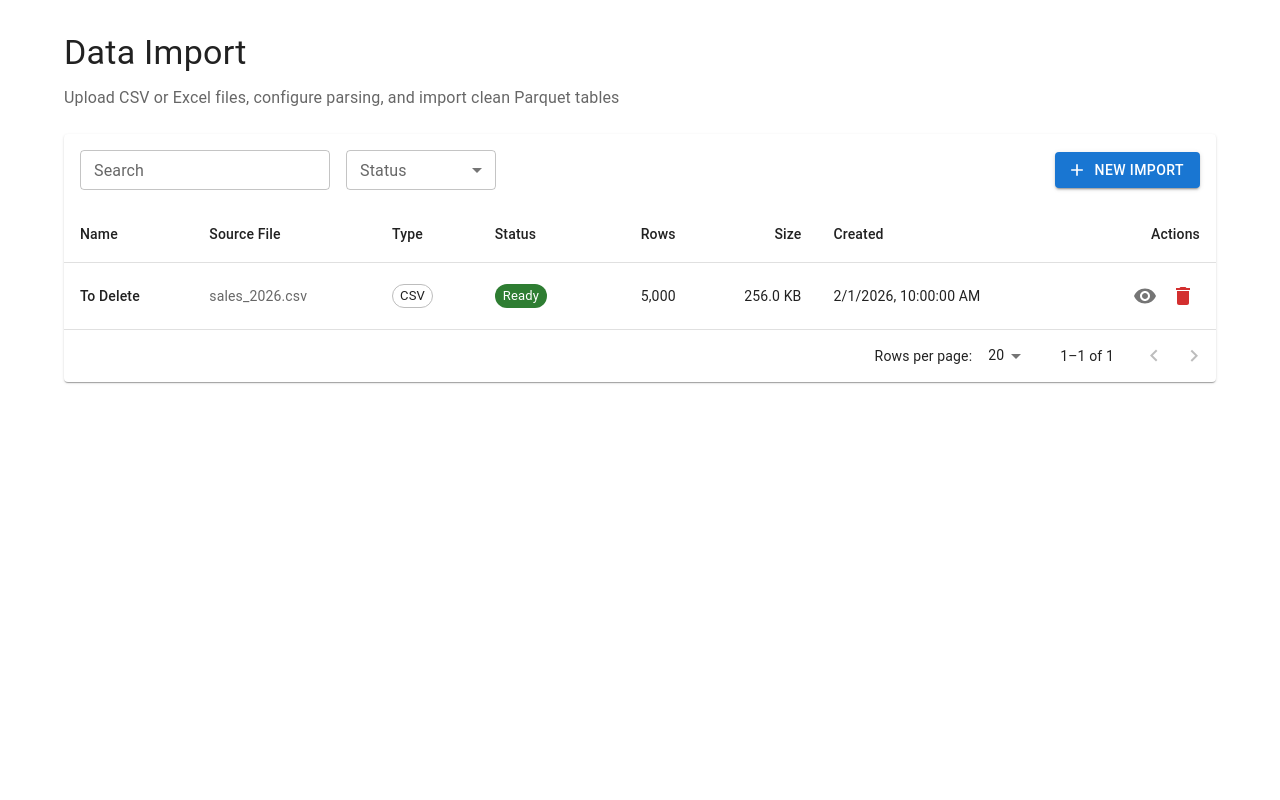
Test: DataImportsPage › Delete flow › opens confirmation dialog when delete button is clicked
The width and height of the screenshot is (1280, 800).
Expected: the text "To Delete" is shown, [80,288,140,304]
Click the button named "Delete import": point(1183, 296) [1166,279,1200,313]
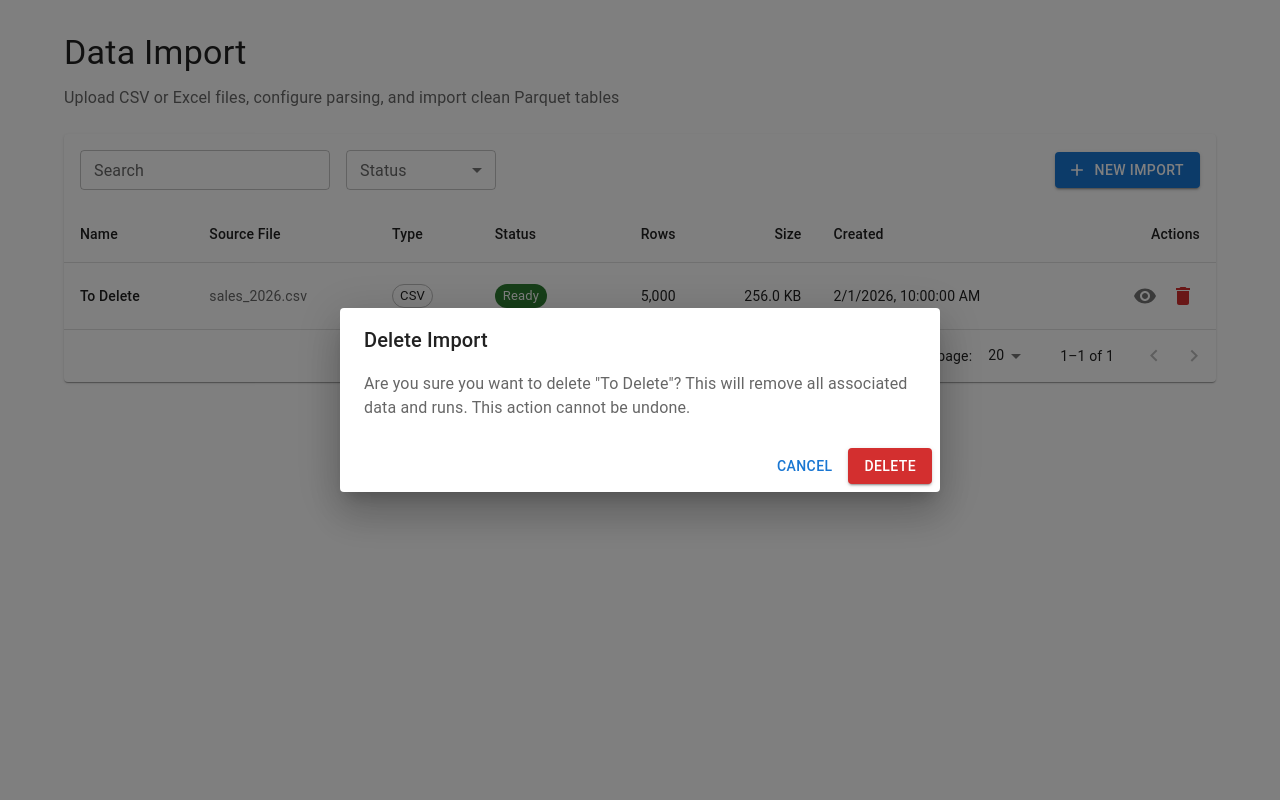
Expected: the heading "Delete Import" is shown, [364,328,488,352]
